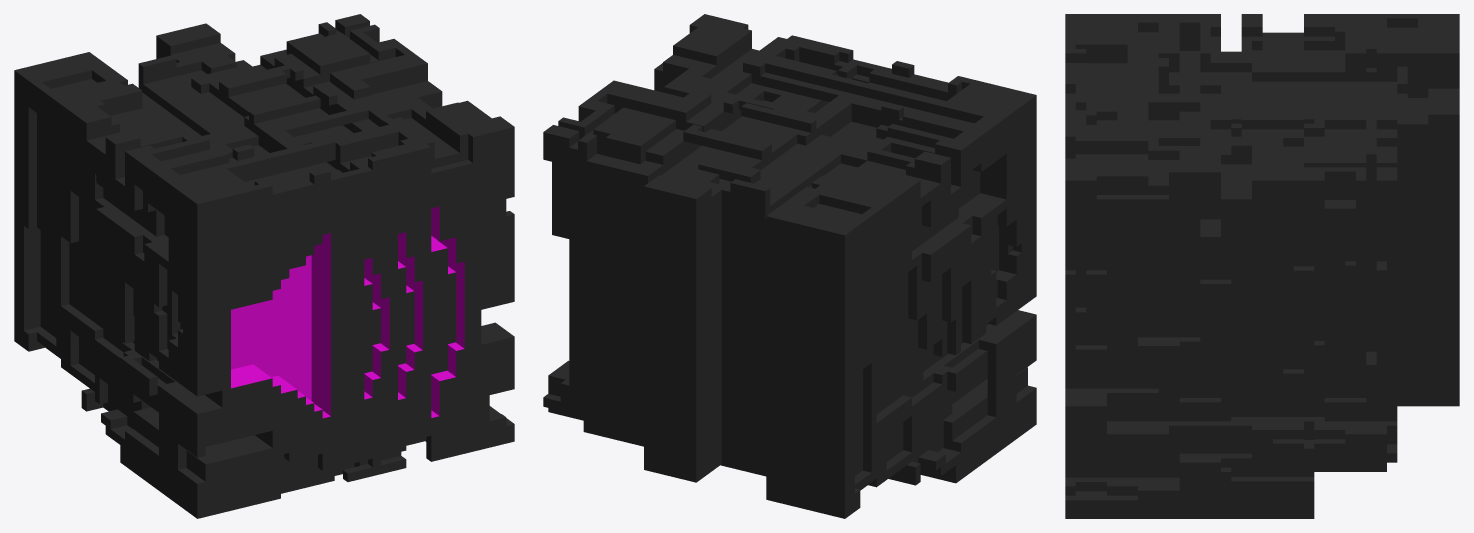
Rendered from Sonido.fbx.
The picture shows the model from 3 angles, left to right: view 1: azimuth 30°, elevation 25°; view 2: azimuth 150°, elevation 25°; view 3: azimuth 270°, elevation 25°; orthographic projection. The views are drawn at different scales.
Visible parts, largest first — view 1: btn_sonidp_1:polySurface1; view 2: btn_sonidp_1:polySurface1; view 3: btn_sonidp_1:polySurface1.
Boxes of the visible parts, x1,y1,x2,y2 form: btn_sonidp_1:polySurface1: [14, 14, 514, 518]; btn_sonidp_1:polySurface1: [543, 14, 1036, 518]; btn_sonidp_1:polySurface1: [1065, 14, 1459, 518].
Bounding box in the file's own units: 3.8 × 3.6 × 3.8.
